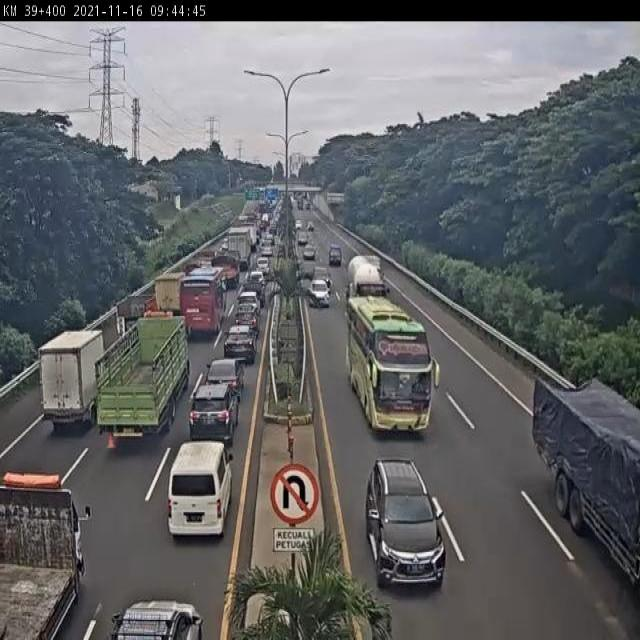Bus: (344, 294, 444, 428), (178, 258, 225, 339), (445, 437, 451, 437)
Car: (357, 457, 452, 599), (103, 597, 212, 640), (187, 382, 241, 432), (223, 320, 261, 363), (304, 272, 332, 311), (233, 292, 260, 315), (327, 240, 346, 270), (245, 282, 265, 304), (302, 244, 317, 261), (254, 257, 271, 272), (244, 273, 267, 284), (259, 240, 274, 256), (297, 231, 309, 246), (306, 221, 315, 231), (264, 233, 275, 240), (294, 220, 302, 228)
Truck: (524, 367, 640, 585), (0, 464, 93, 640), (91, 309, 192, 448), (27, 318, 104, 434), (344, 248, 394, 296), (150, 263, 182, 314), (212, 248, 240, 288), (228, 226, 250, 270), (250, 222, 258, 251), (259, 214, 271, 229)
Van: (164, 437, 236, 544)
